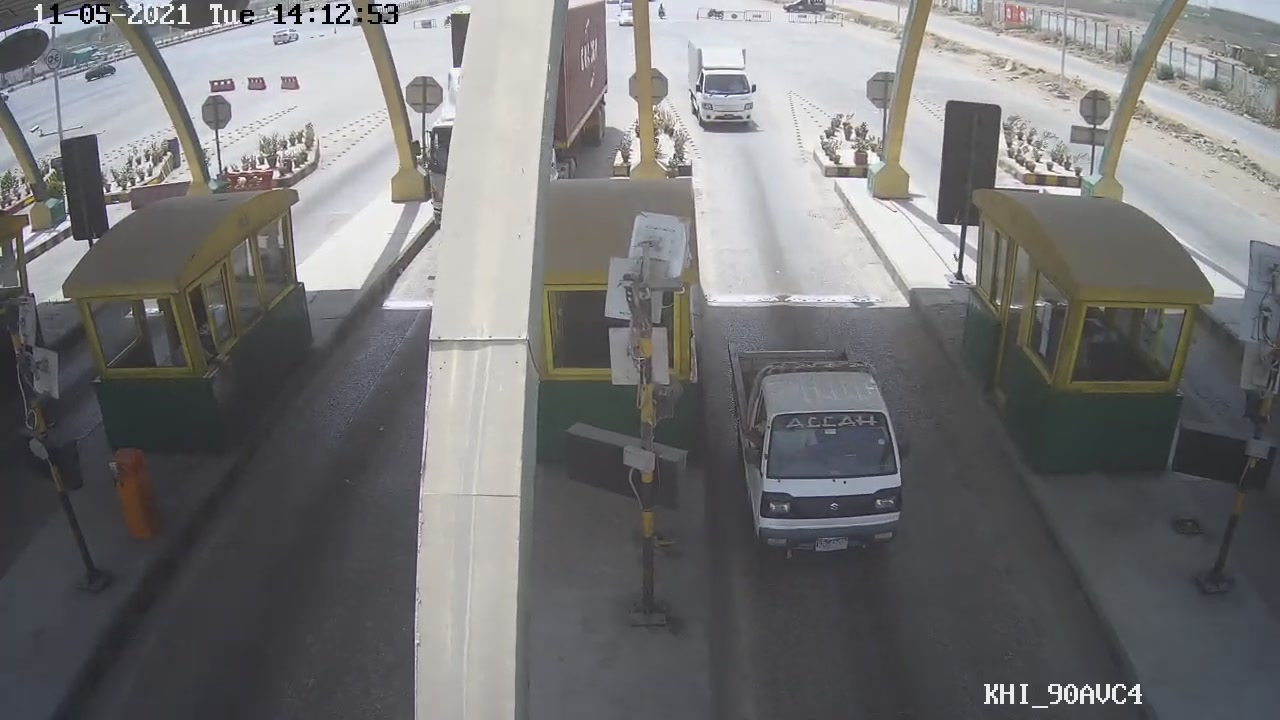F1: (722, 332, 911, 572)
